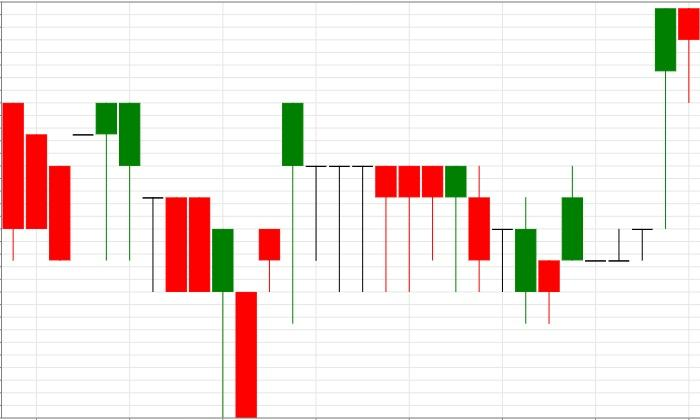hanging_man_fall: (538, 8, 700, 324), (236, 102, 304, 419)
